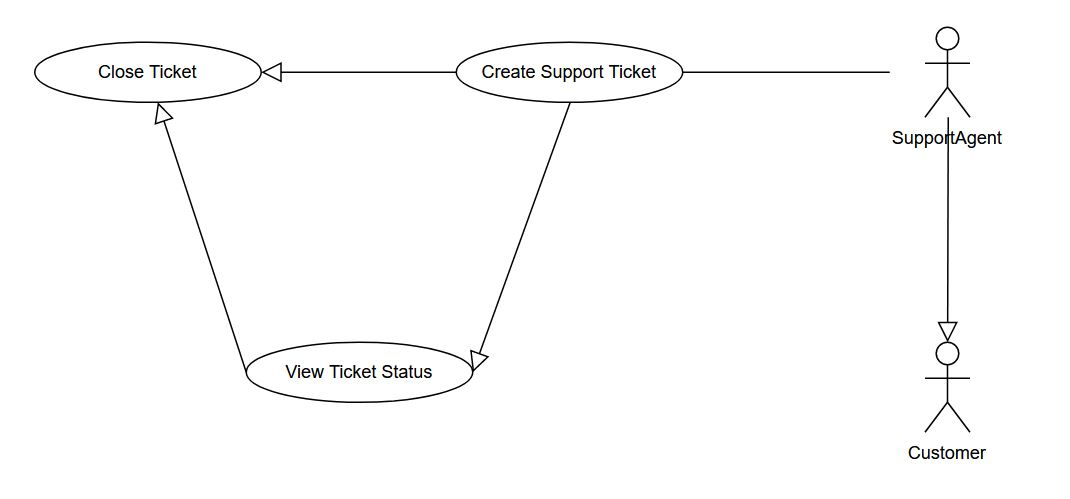actor: (921, 340, 975, 434), (922, 24, 974, 121)
association: (683, 65, 898, 79)
generalization: (471, 102, 571, 370), (153, 101, 248, 370), (936, 116, 960, 341), (262, 59, 456, 83)
text: (269, 357, 438, 385), (479, 58, 662, 83), (890, 125, 1005, 153), (98, 57, 203, 82), (904, 442, 991, 466)
use_case: (245, 339, 474, 405), (33, 40, 263, 105), (456, 40, 683, 104)
